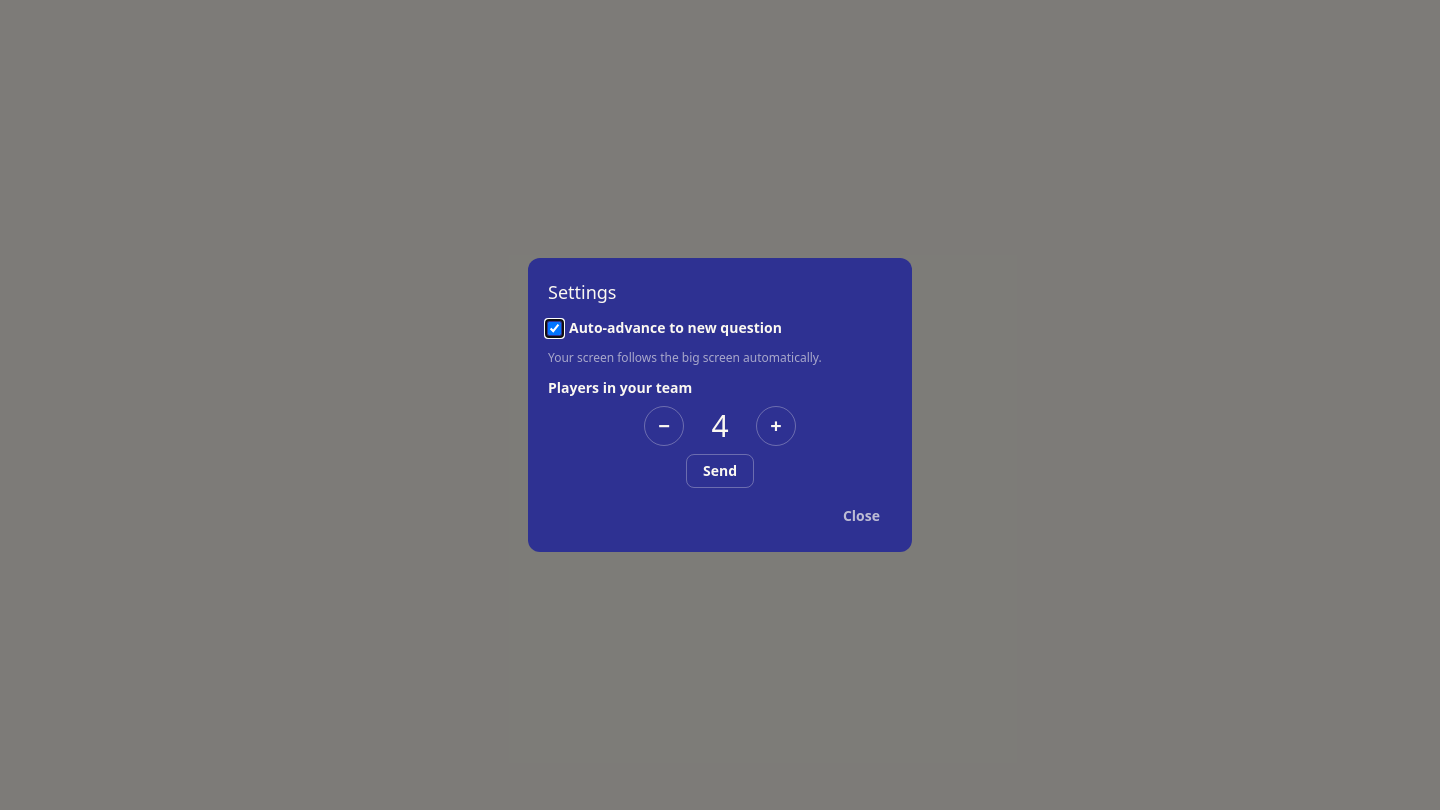
SettingsModal — the player count field › shows the current count and sends a change
The image size is (1440, 810).
Expected: the text named "number of players" reads "4", [711,405,729,446]
Click the button named "more players". click: (776, 426)
box: [756,406,796,446]
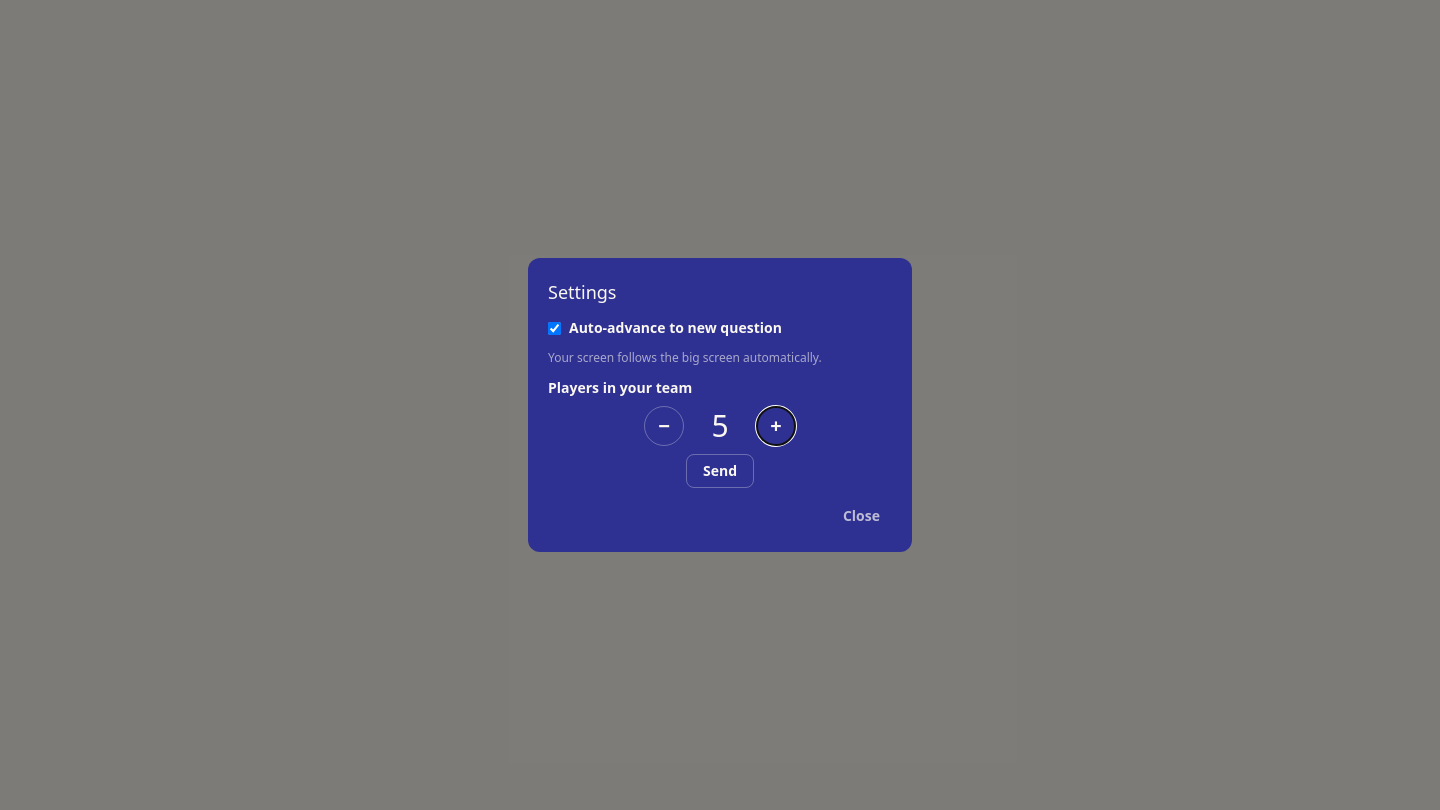
Click the button "Send". click: (720, 471)
box: [686,454,754,488]
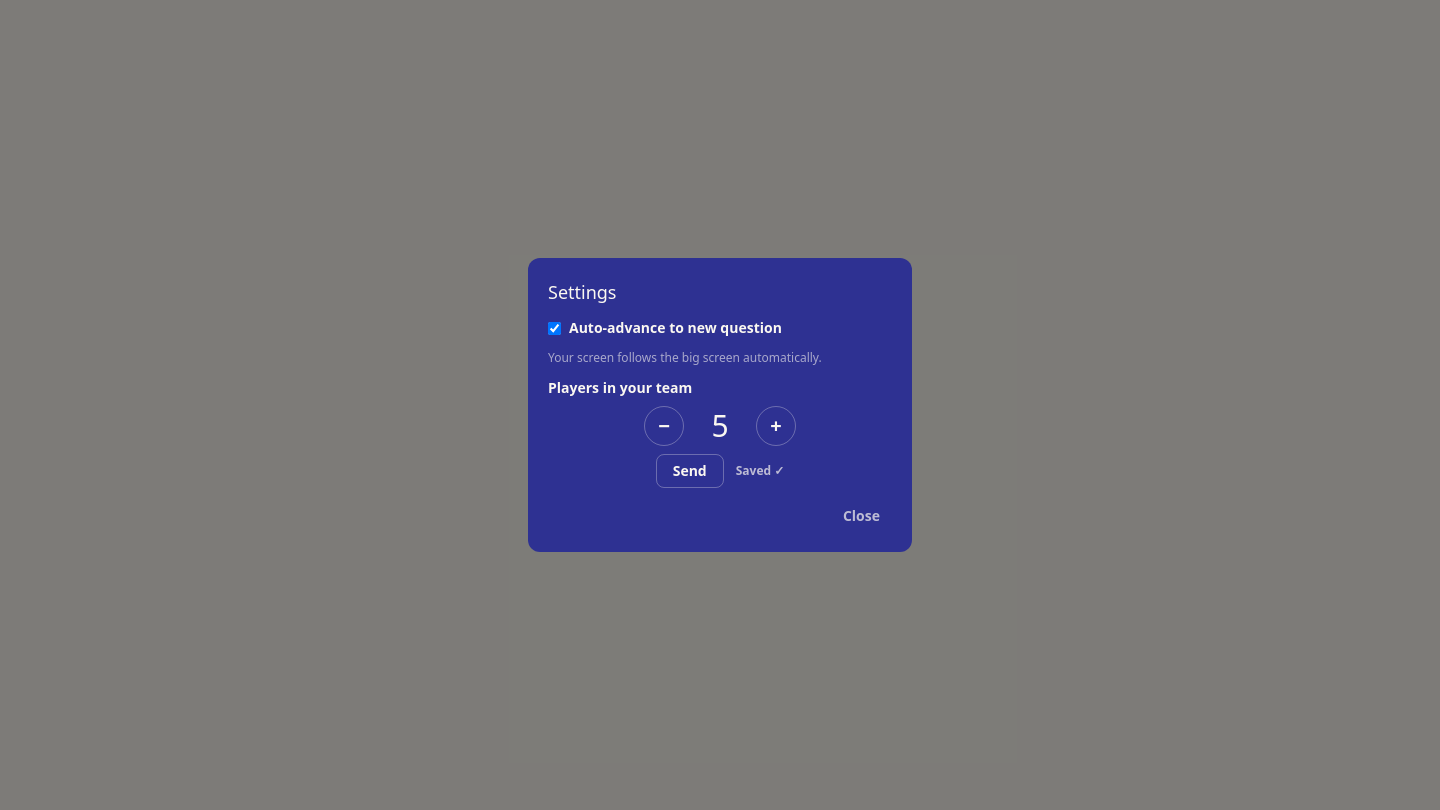
Result: the text "Saved ✓" is shown at [736,463,784,479]
